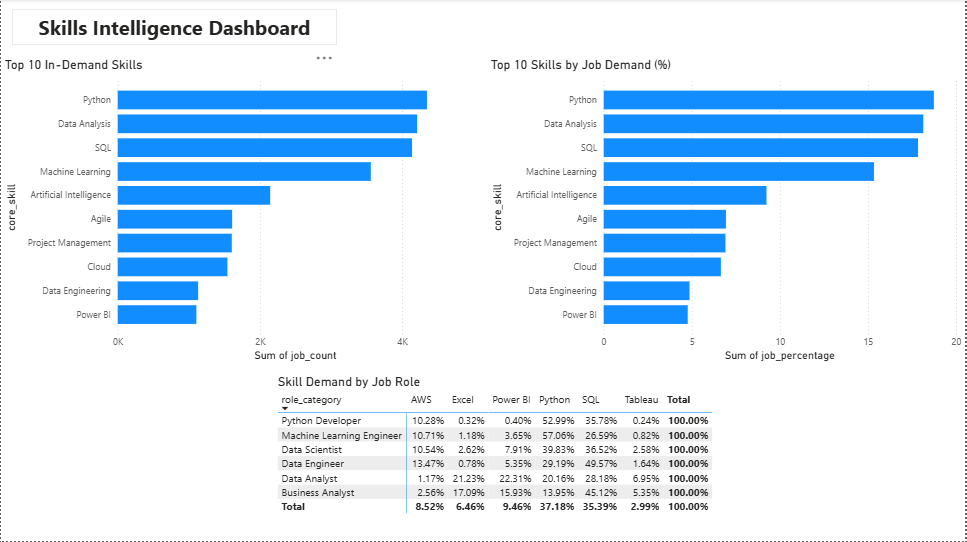

This screenshot's page, from the dashboard's own definition file:
{"tool":"powerbi","page":{"name":"Skills Intelligence","canvas":[1280,720],"ordinal":1},"visuals":[{"type":"clusteredBarChart","title":"Top 10 In-Demand Skills","fields":{"Category":["skill_demand.core_skill"],"Y":["Sum(skill_demand.job_count)"]},"box":[0,77.6,639.5,409.8],"z":0},{"type":"clusteredBarChart","title":"Top 10 Skills by Job Demand (%)","fields":{"Category":["skill_demand.core_skill"],"Y":["Sum(skill_demand.job_percentage)"]},"box":[645.4,77.6,635.1,409.8],"z":1000},{"type":"pivotTable","title":"Skill Demand by Job Role","fields":{"Rows":["role_skill_analysis.role_category"],"Columns":["role_skill_analysis.core_skill"],"Values":["role_skill_analysis.Skill % Within Role"]},"box":[362.9,497.6,600,222.4],"z":2000},{"type":"textbox","box":[14.6,13.2,431.7,48.3],"z":2001}]}

Visuals, with their boxes in screenshot pixels (x1, y1, x2, y2), scaled from the page's 1280x720 canvas onto the 967x542 screenshot:
"Top 10 In-Demand Skills" clusteredBarChart: pyautogui.locateOnScreen(0, 58, 483, 367)
"Top 10 Skills by Job Demand (%)" clusteredBarChart: pyautogui.locateOnScreen(488, 58, 966, 367)
"Skill Demand by Job Role" pivotTable: pyautogui.locateOnScreen(274, 375, 727, 541)
textbox: pyautogui.locateOnScreen(11, 10, 337, 46)
